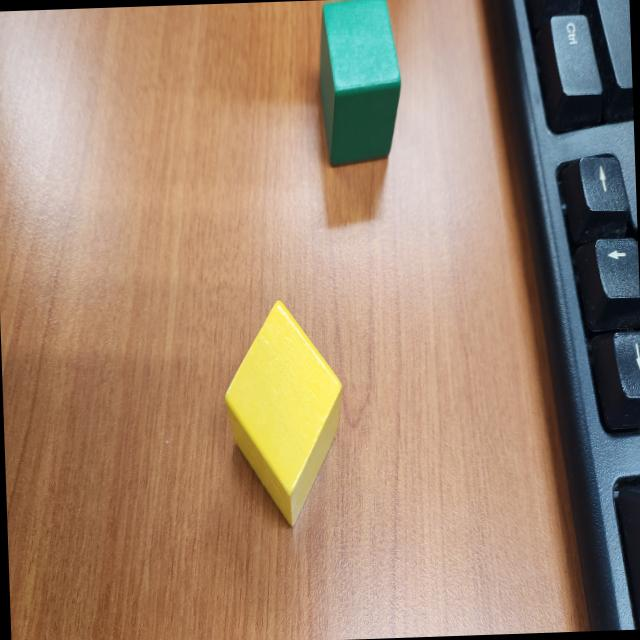green: (315, 0, 404, 167)
yellow: (220, 296, 349, 534)
